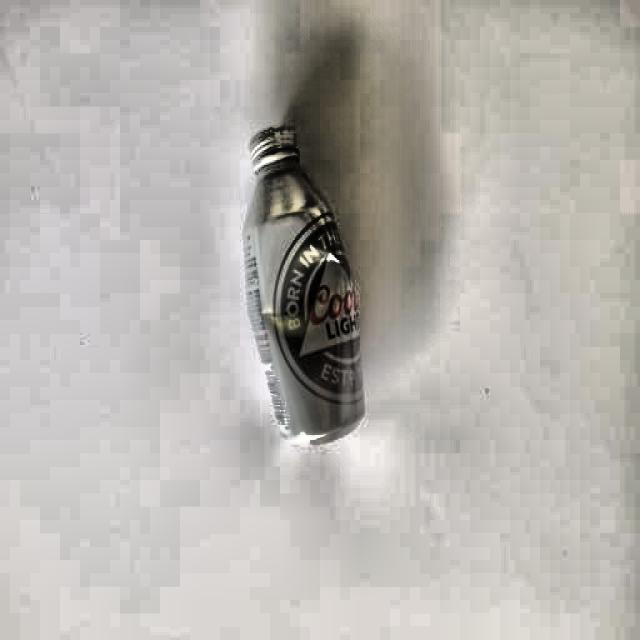metal: (238, 120, 364, 442)
